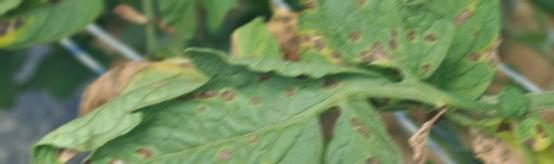Tomato Septoria leaf spot: (29, 42, 363, 164), (293, 0, 451, 83), (320, 92, 409, 164)
